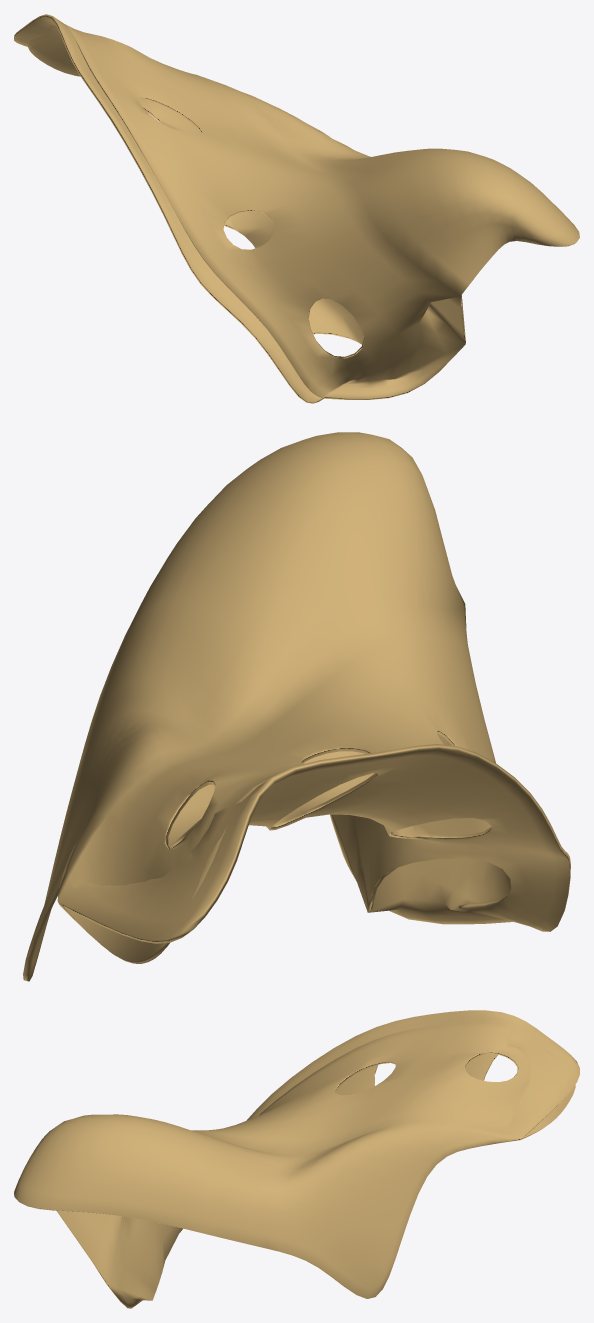
3 views of the same model, one above another, from view 1: azimuth 30°, elevation 25°; view 2: azimuth 150°, elevation 25°; view 3: azimuth 270°, elevation 25° (orthographic). The views are drawn at different scales.
Visible parts, largest first — view 1: 左侧骶髂后韧带; view 2: 左侧骶髂后韧带; view 3: 左侧骶髂后韧带.
Part boxes in pixels (x1=…): 左侧骶髂后韧带: x1=14, y1=14, x2=579, y2=403; 左侧骶髂后韧带: x1=23, y1=432, x2=570, y2=981; 左侧骶髂后韧带: x1=14, y1=1010, x2=579, y2=1308.
Bounding box in the file's own units: 0.0752 × 0.064 × 0.1402.
